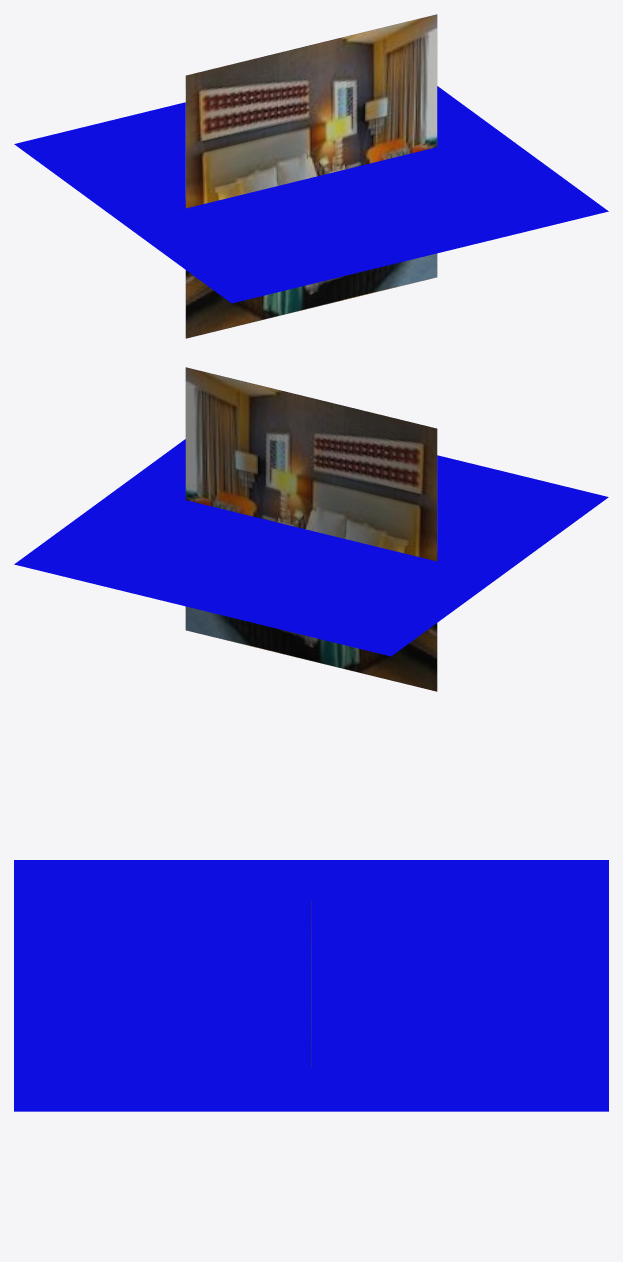
3 renders of one model, top to bottom at view 1: azimuth 30°, elevation 25°; view 2: azimuth 150°, elevation 25°; view 3: azimuth 270°, elevation 25°, orthographic. The views are drawn at different scales.
Parts seen in each view (by area): view 1: BorderPlane, PhotoPlane; view 2: BorderPlane, PhotoPlane; view 3: BorderPlane.
Boxes of the visible parts, box(x1,y1,x2,y2) form: BorderPlane: box(14, 86, 608, 303); PhotoPlane: box(185, 14, 437, 338); BorderPlane: box(14, 439, 608, 656); PhotoPlane: box(185, 367, 437, 691); BorderPlane: box(14, 860, 608, 1111).
Bounding box in the file's own units: 3 × 2 × 3.
2 materials, 1 textured.
